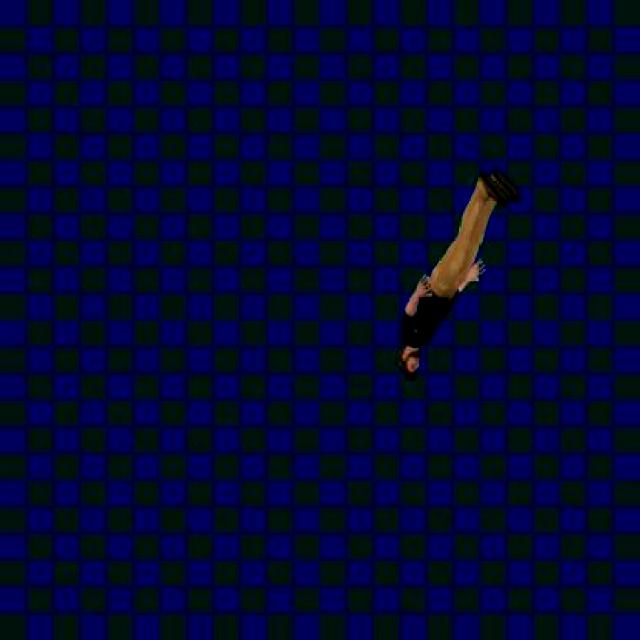Person: (394, 162, 524, 384)
